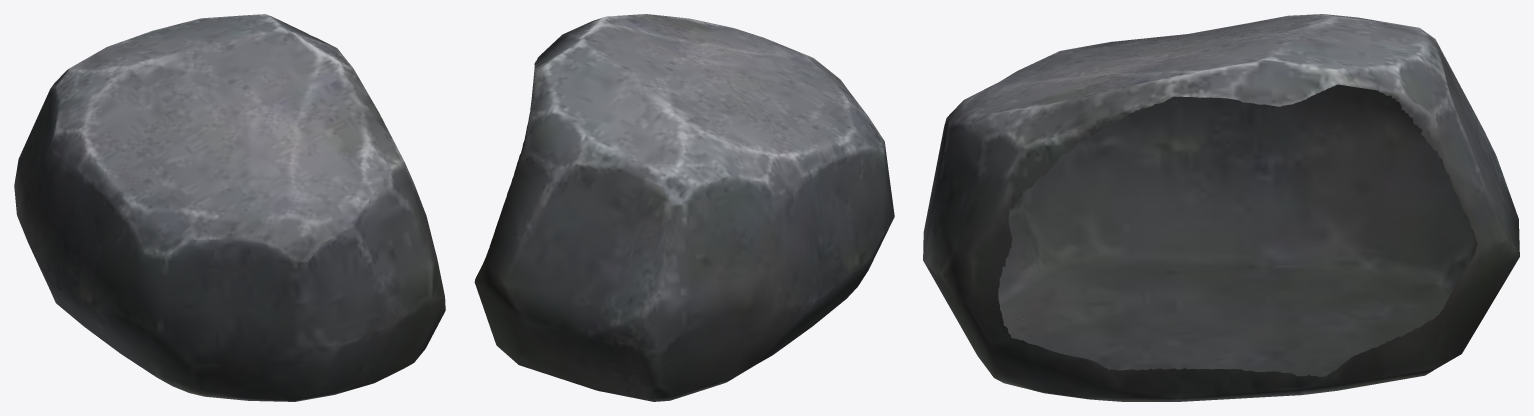
3 views of the same model, side by side, from view 1: azimuth 30°, elevation 25°; view 2: azimuth 150°, elevation 25°; view 3: azimuth 270°, elevation 25° (orthographic). The views are drawn at different scales.
Visible parts, largest first — view 1: SM_Stone_02_LOD0; view 2: SM_Stone_02_LOD0; view 3: SM_Stone_02_LOD0.
Boxes of the visible parts, bbox=[...] form: SM_Stone_02_LOD0: bbox=[14, 14, 445, 401]; SM_Stone_02_LOD0: bbox=[474, 14, 894, 401]; SM_Stone_02_LOD0: bbox=[923, 14, 1519, 401].
Size of the model in its own units: 0.221 by 0.1797 by 0.3058.
1 material, 1 textured.
